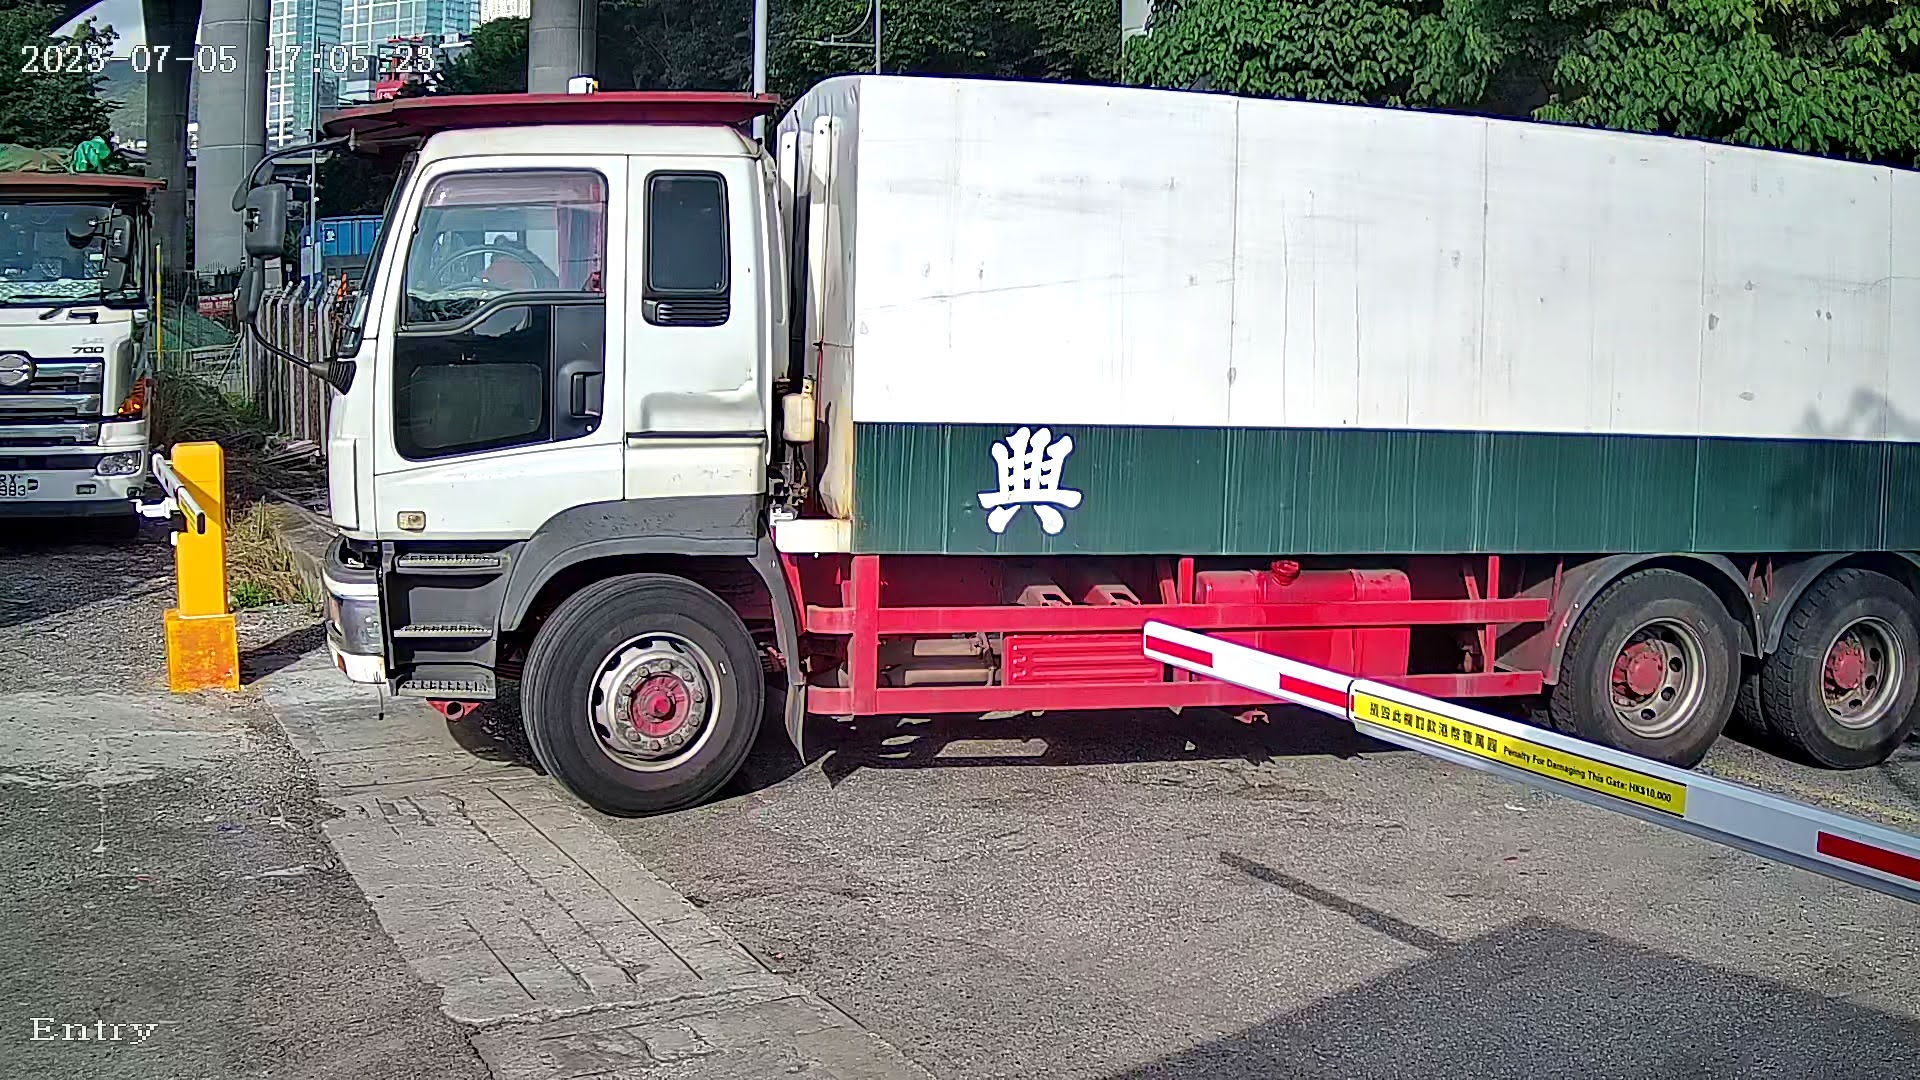truck: (293, 1, 1905, 853)
